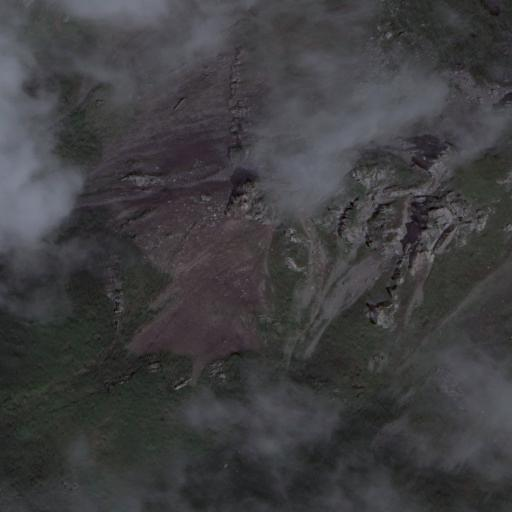landslide: (129, 214, 275, 385)
